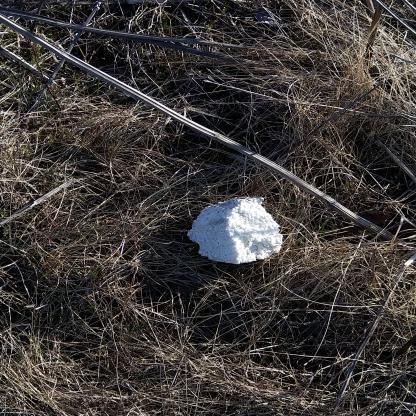kopuk: (188, 199, 284, 266)
